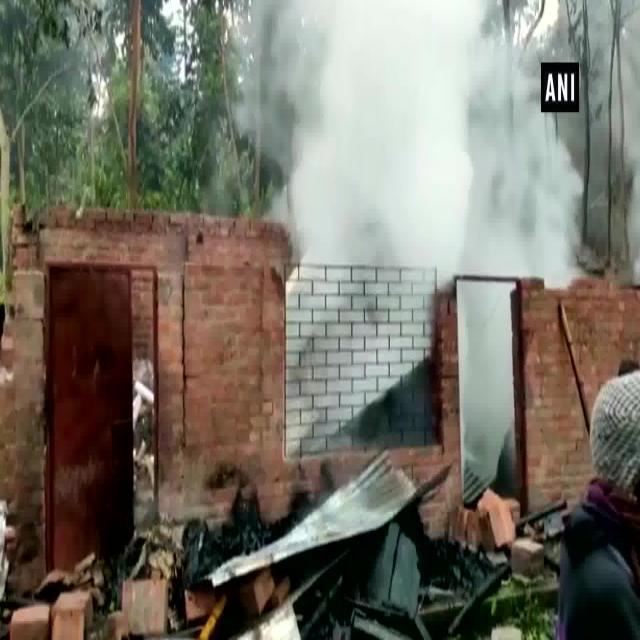Smoke: (291, 1, 478, 276)
